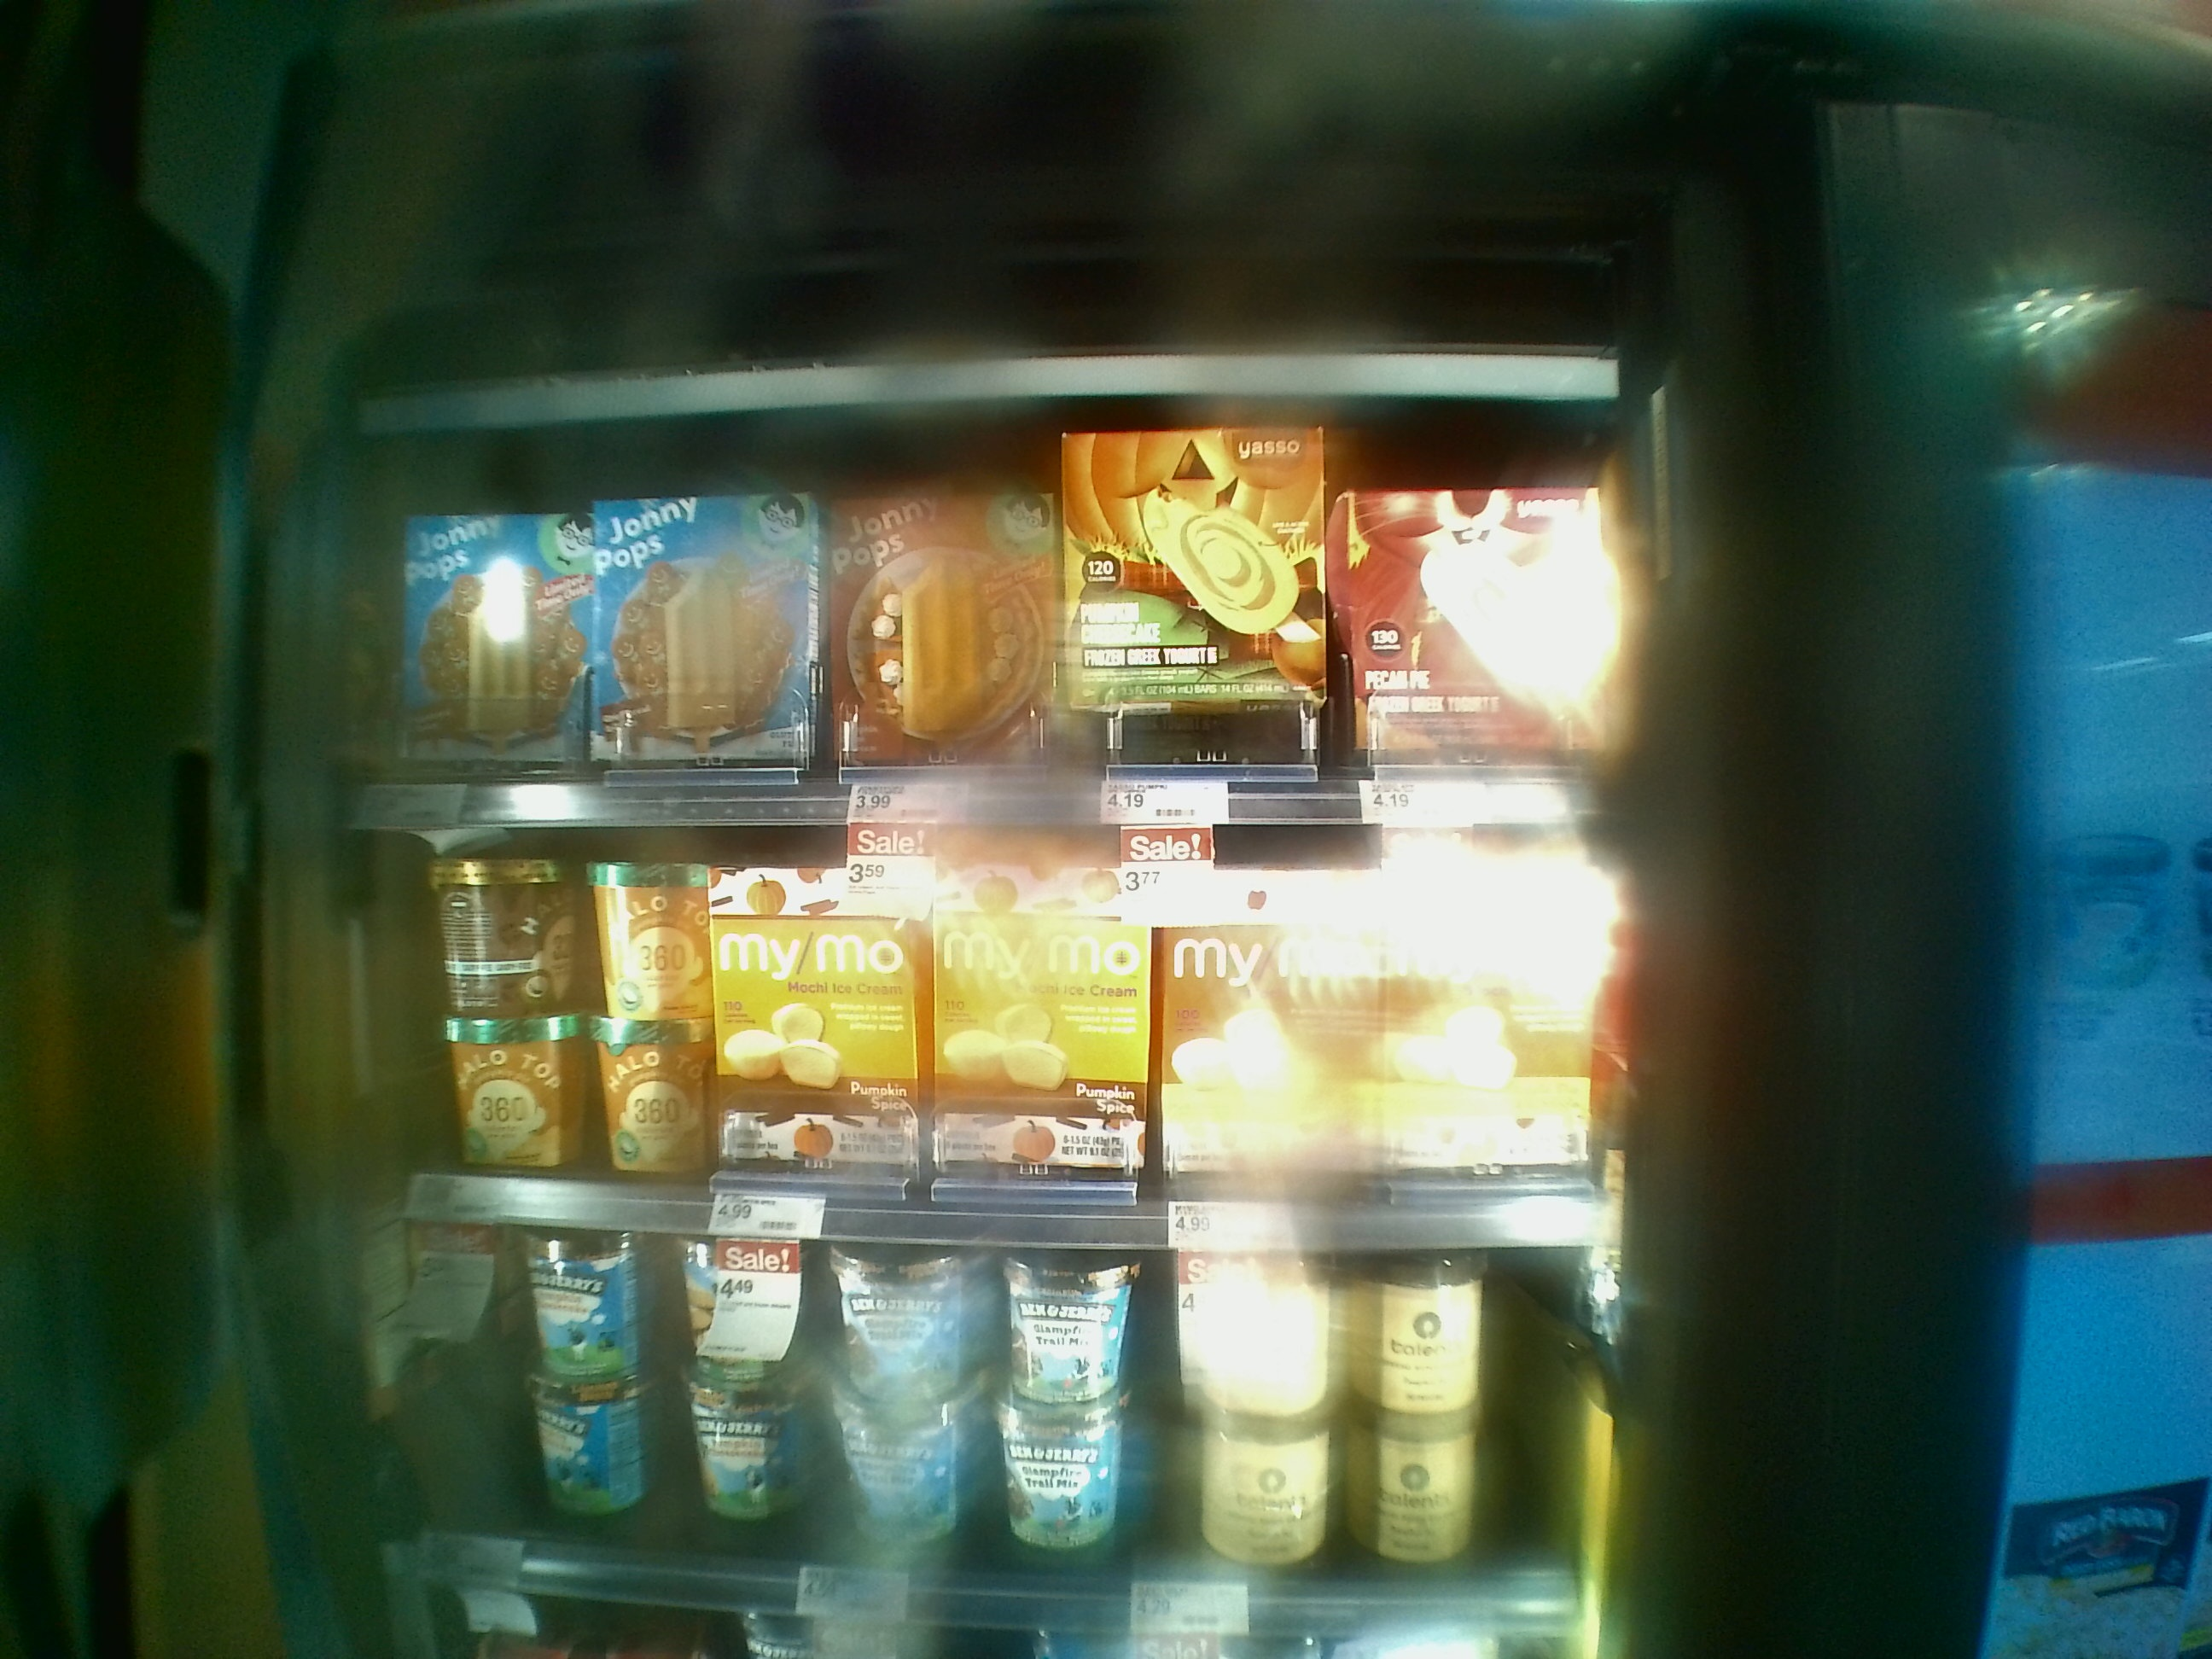shelf: (312, 809, 1662, 1244), (317, 444, 1655, 823)
